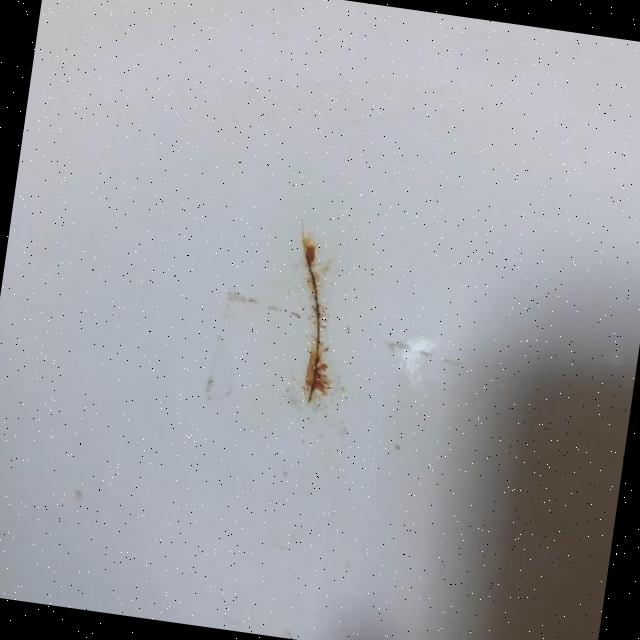Corrosion: (276, 226, 354, 406)
